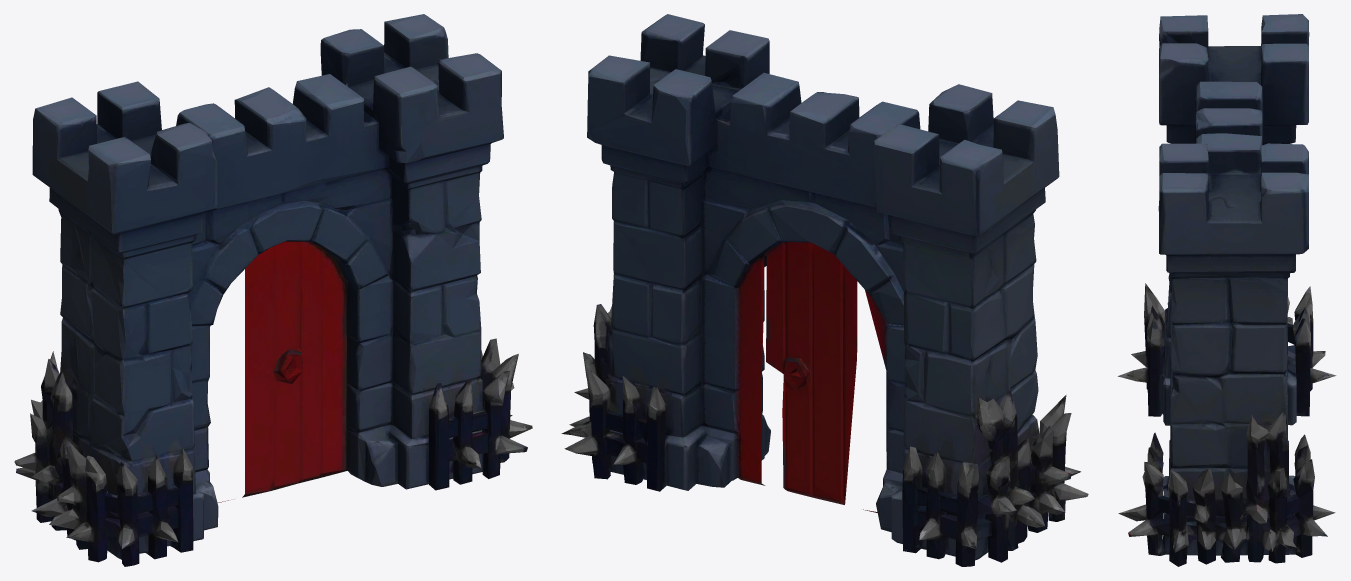
The model's file is castle_gate.glb.
The picture shows the model from 3 angles, left to right: view 1: azimuth 30°, elevation 25°; view 2: azimuth 150°, elevation 25°; view 3: azimuth 270°, elevation 25°; orthographic projection. The views are drawn at different scales.
Bounding box in the file's own units: 1.96 × 1.61 × 0.8643.
1 material, 1 textured.
